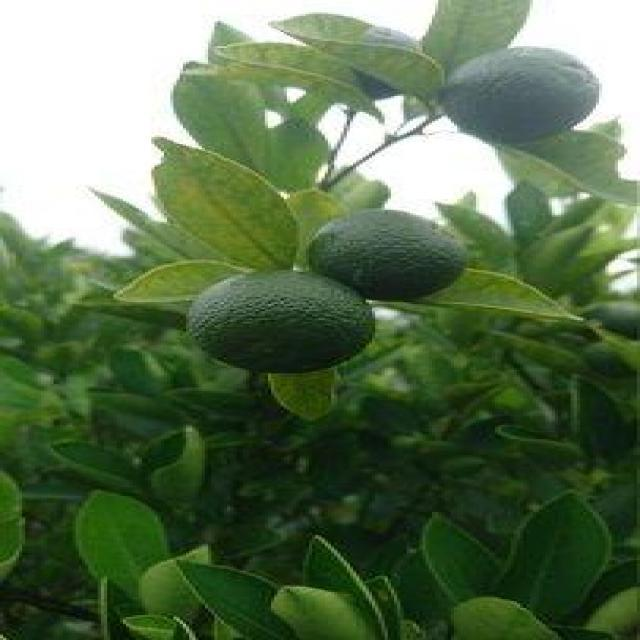Jeruk Belum Matang: (180, 268, 378, 377), (438, 46, 606, 146), (303, 212, 467, 300)
